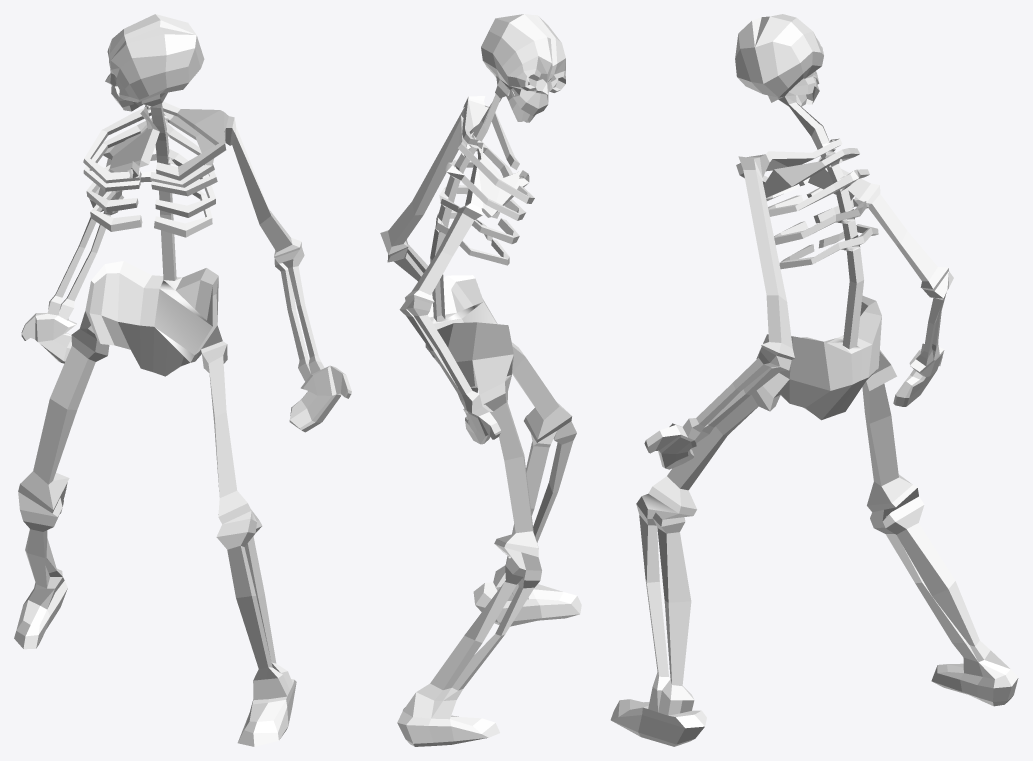
The model's file is SkeletonIdle(59).obj.
The picture shows the model from 3 angles, left to right: view 1: azimuth 30°, elevation 25°; view 2: azimuth 150°, elevation 25°; view 3: azimuth 270°, elevation 25°; orthographic projection. The views are drawn at different scales.
Parts seen in each view (by area): view 1: Object002; view 2: Object002; view 3: Object002.
Boxes of the visible parts, left/top/right/bottom form: Object002: left=14, top=14, right=351, bottom=746; Object002: left=380, top=14, right=581, bottom=746; Object002: left=610, top=14, right=1018, bottom=746.
Bounding box in the file's own units: 389 × 1122 × 601.
